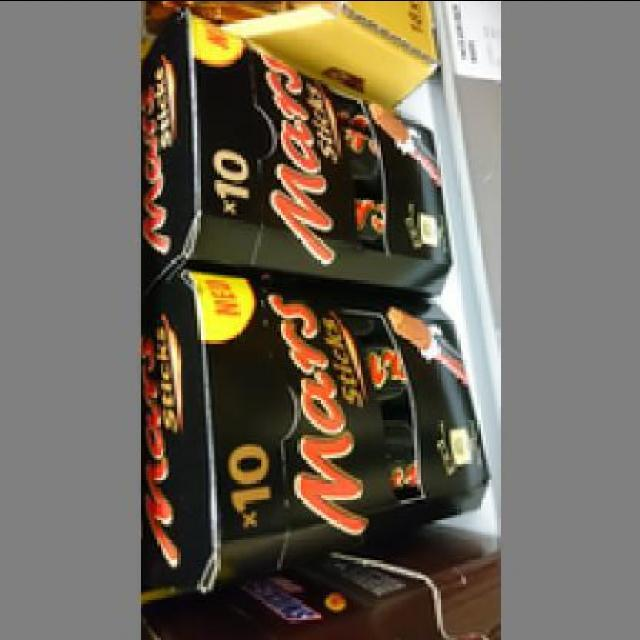Chocolate bar: (140, 271, 474, 603), (143, 20, 454, 289)
